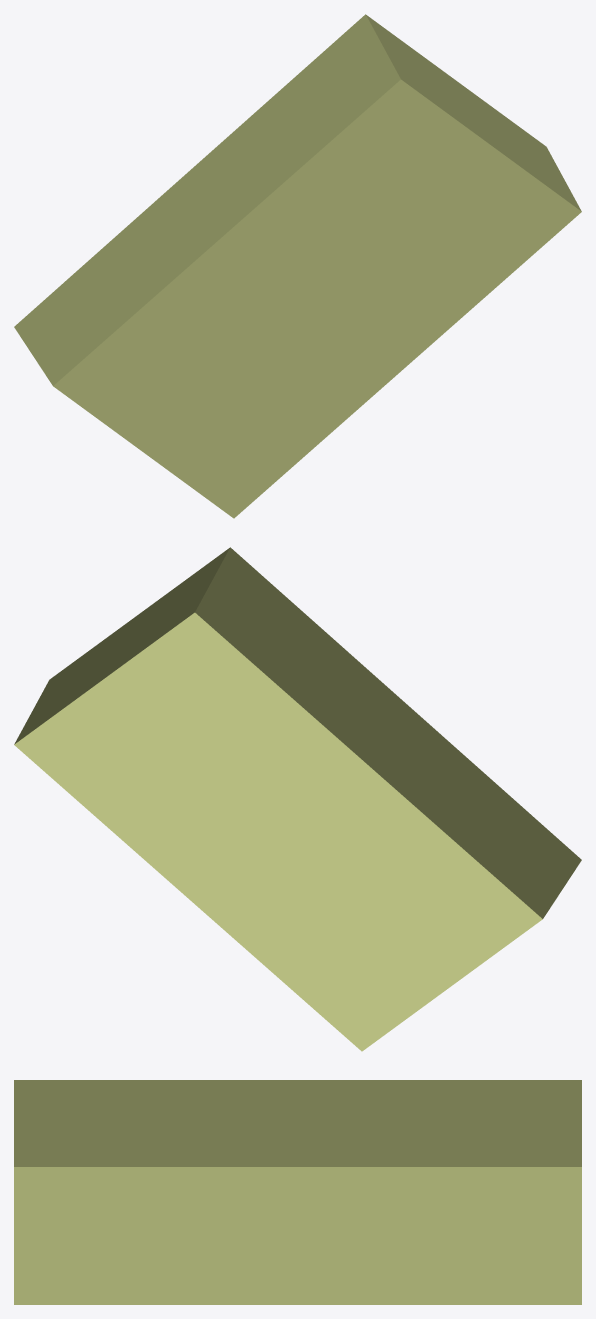
3 views of the same model, one above another, from view 1: azimuth 30°, elevation 25°; view 2: azimuth 150°, elevation 25°; view 3: azimuth 270°, elevation 25° (orthographic). The views are drawn at different scales.
Parts seen in each view (by area): view 1: 0_1_3_2_2_1_2_1_2_3_0; view 2: 0_1_3_2_2_1_2_1_2_3_0; view 3: 0_1_3_2_2_1_2_1_2_3_0.
Boxes of the visible parts, x1=… form: 0_1_3_2_2_1_2_1_2_3_0: x1=14, y1=14, x2=581, y2=518; 0_1_3_2_2_1_2_1_2_3_0: x1=14, y1=547, x2=581, y2=1051; 0_1_3_2_2_1_2_1_2_3_0: x1=14, y1=1080, x2=581, y2=1304.
Bounding box in the file's own units: 11.11 × 8.11 × 9.
